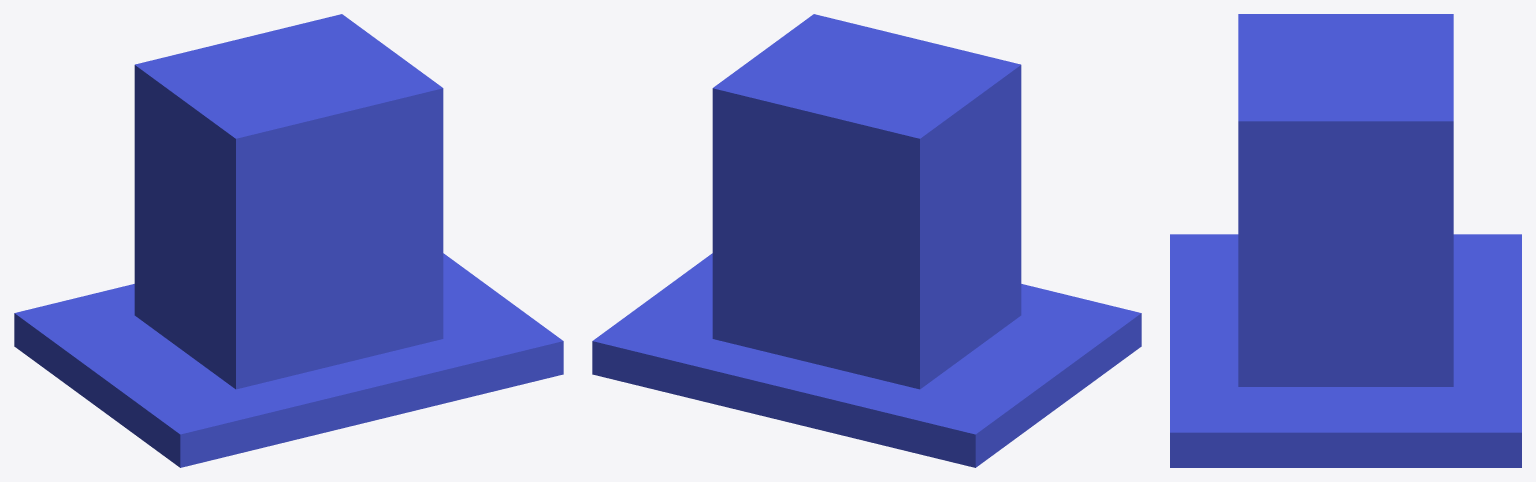
The model's file is top_hat_3lod.glb.
3 renders of one model, left to right at view 1: azimuth 30°, elevation 25°; view 2: azimuth 150°, elevation 25°; view 3: azimuth 270°, elevation 25°, orthographic. The views are drawn at different scales.
Visible parts, largest first — view 1: TopHat_Near; view 2: TopHat_Near; view 3: TopHat_Near.
Boxes of the visible parts, x1,y1,x2,y2 form: TopHat_Near: (14,14,563,467); TopHat_Near: (592,14,1141,467); TopHat_Near: (1170,14,1521,467).
Size of the model in its own units: 2.4 by 1.7 by 1.8.
